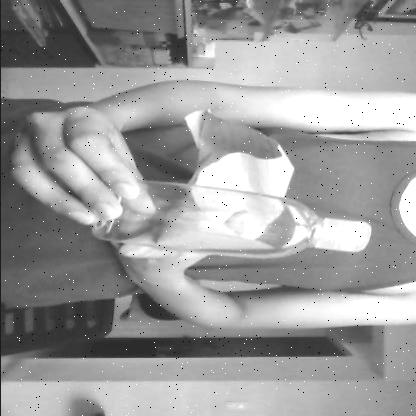Plastic Bottle: (84, 176, 369, 262)
